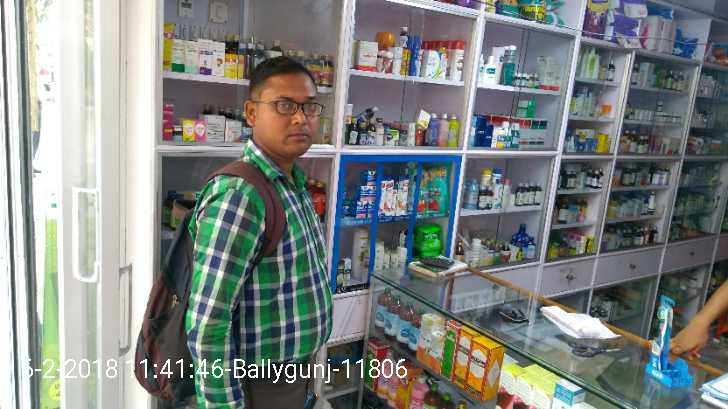vicks: (641, 295, 676, 380), (342, 168, 378, 220)
